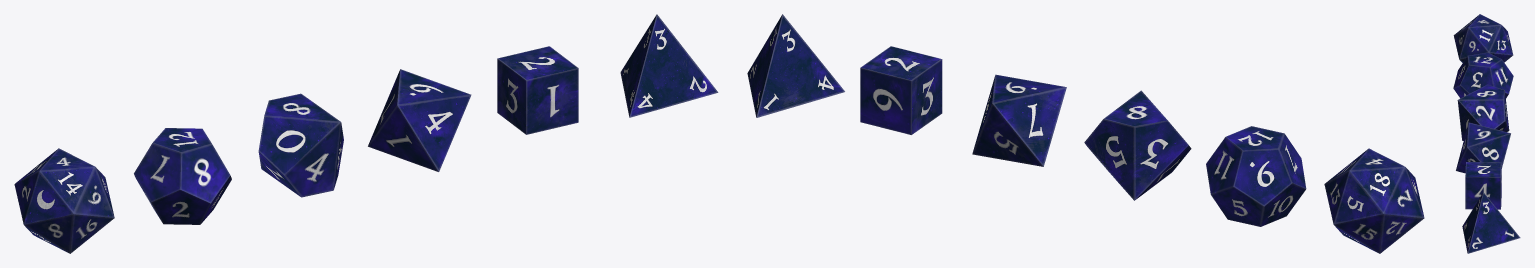
The model's file is dices_blue.glb.
3 renders of one model, left to right at view 1: azimuth 30°, elevation 25°; view 2: azimuth 150°, elevation 25°; view 3: azimuth 270°, elevation 25°, orthographic. The views are drawn at different scales.
Visible parts, largest first — view 1: d20, d10, d12, d8, d6, d4; view 2: d12, d20, d10, d8, d6, d4; view 3: d4, d20, d10, d12, d8, d6.
Part boxes in pixels (x1=…): d20: x1=14, y1=148, x2=114, y2=253; d10: x1=258, y1=93, x2=343, y2=197; d12: x1=134, y1=128, x2=231, y2=224; d8: x1=368, y1=69, x2=471, y2=171; d6: x1=497, y1=46, x2=578, y2=134; d4: x1=620, y1=14, x2=718, y2=117; d12: x1=1206, y1=126, x2=1306, y2=226; d20: x1=1324, y1=148, x2=1424, y2=253; d10: x1=1084, y1=90, x2=1191, y2=200; d8: x1=972, y1=74, x2=1066, y2=166; d6: x1=860, y1=46, x2=942, y2=134; d4: x1=747, y1=14, x2=844, y2=117; d4: x1=1462, y1=192, x2=1520, y2=253; d20: x1=1453, y1=14, x2=1513, y2=62; d10: x1=1457, y1=84, x2=1509, y2=140; d12: x1=1453, y1=52, x2=1513, y2=98; d8: x1=1456, y1=122, x2=1510, y2=173; d6: x1=1465, y1=162, x2=1501, y2=209.
Bounding box in the file's own units: 9.28 × 1.09 × 1.33.
1 material, 1 textured.
